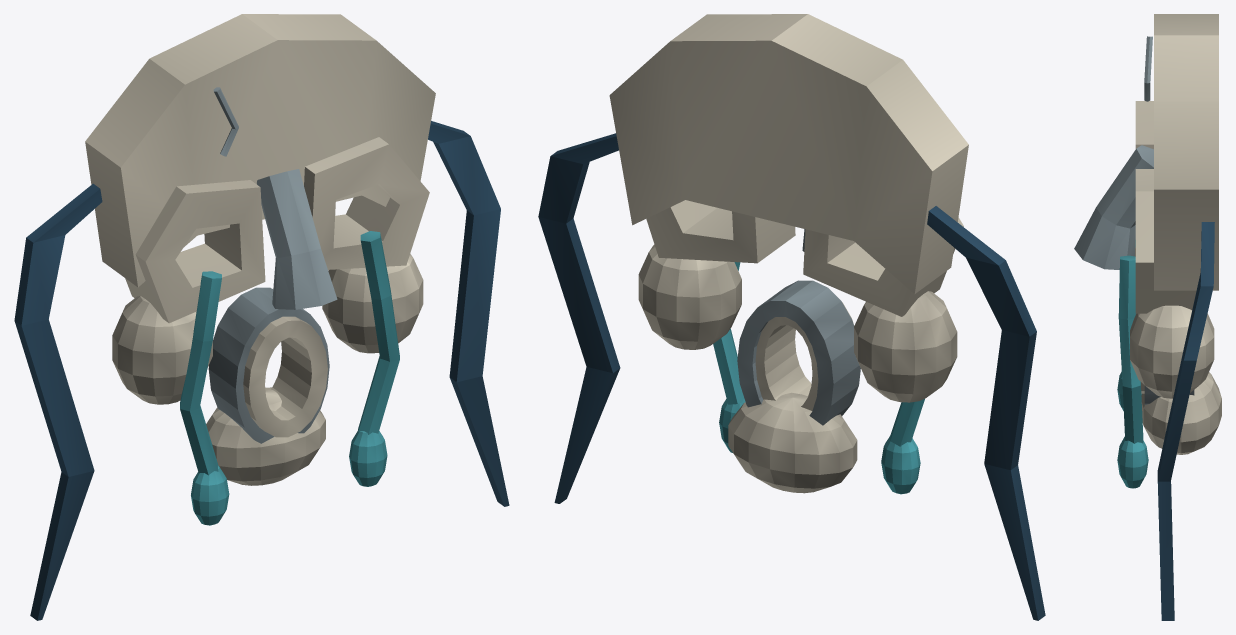
The model's file is crying_mask.fbx.
The picture shows the model from 3 angles, left to right: view 1: azimuth 30°, elevation 25°; view 2: azimuth 150°, elevation 25°; view 3: azimuth 270°, elevation 25°; orthographic projection. The views are drawn at different scales.
Visible parts, largest first — view 1: crying_mask; view 2: crying_mask; view 3: crying_mask.
Part boxes in pixels (x1,y1,x2,y2): crying_mask: (14, 14, 509, 620); crying_mask: (538, 14, 1045, 620); crying_mask: (1074, 14, 1221, 620).
Size of the model in its own units: 5.53 by 5.8 by 1.62.
